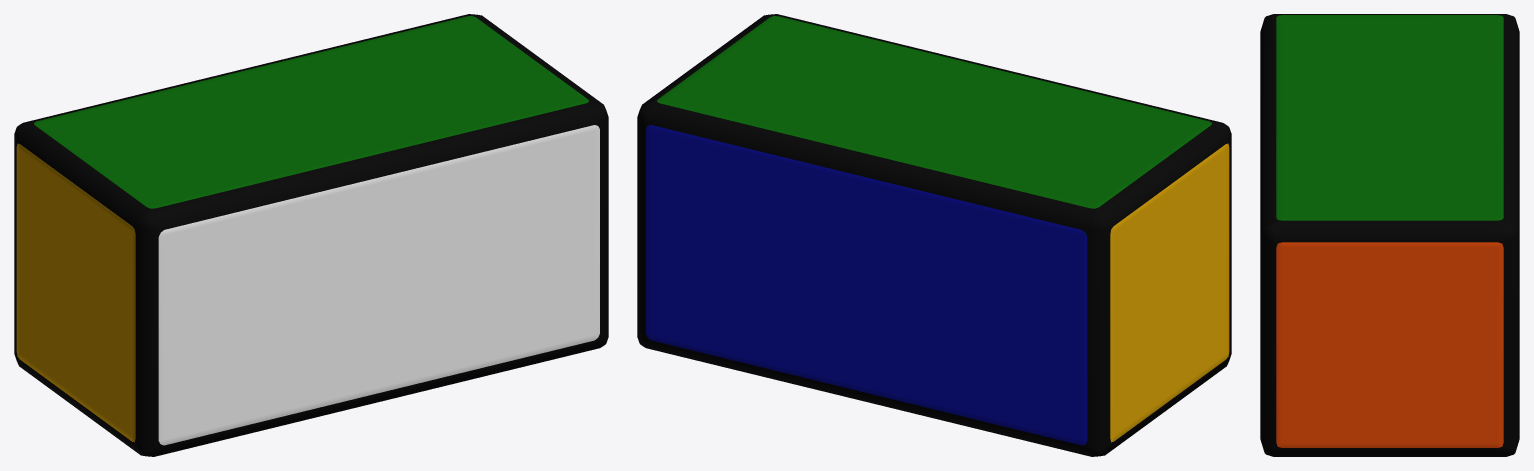
3 renders of one model, left to right at view 1: azimuth 30°, elevation 25°; view 2: azimuth 150°, elevation 25°; view 3: azimuth 270°, elevation 25°, orthographic. The views are drawn at different scales.
Parts seen in each view (by area): view 1: 12; view 2: 12; view 3: 12.
Boxes of the visible parts, x1,y1,x2,y2 form: 12: (14,14,608,456); 12: (637,14,1231,456); 12: (1260,14,1519,456).
Size of the model in its own units: 20 by 10 by 10.
